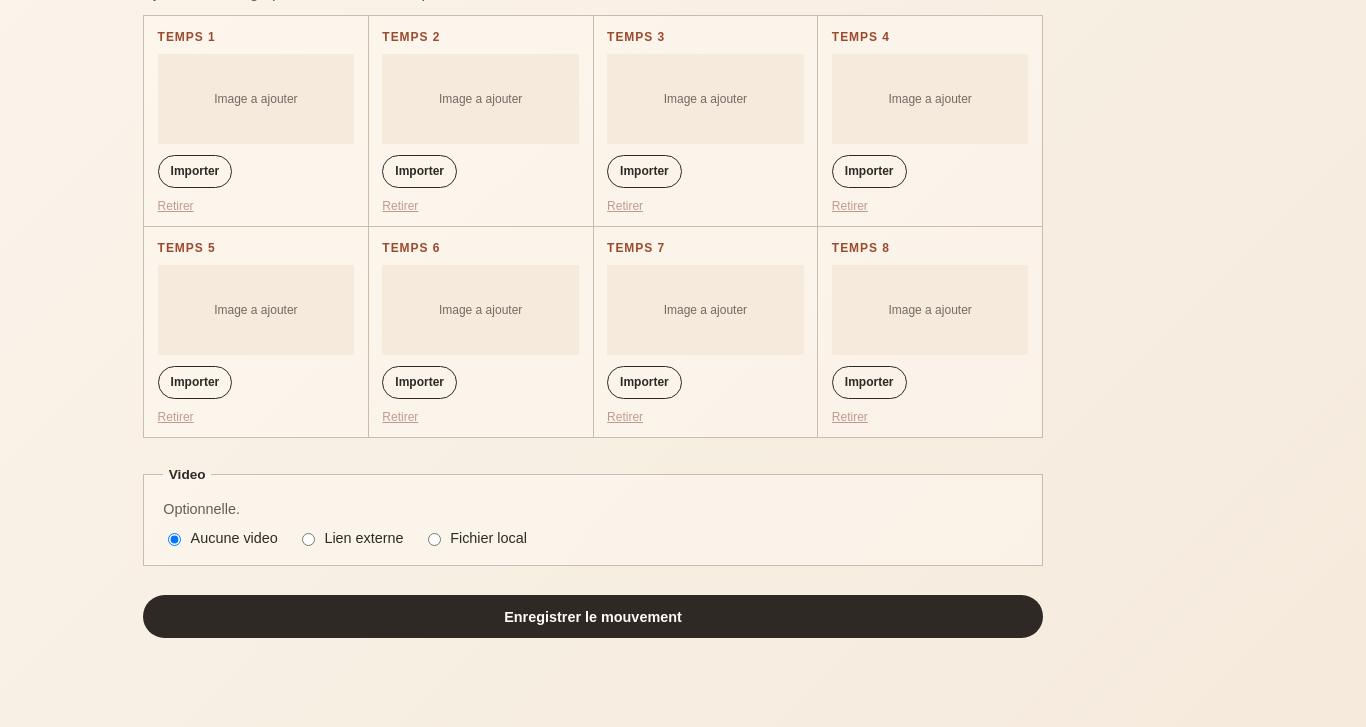
it: MovementForm › shows field errors without saving an incomplete movement
(page scrolled)
Click the button "Enregistrer le mouvement": (593, 617) [143,595,1043,638]
(page scrolled)
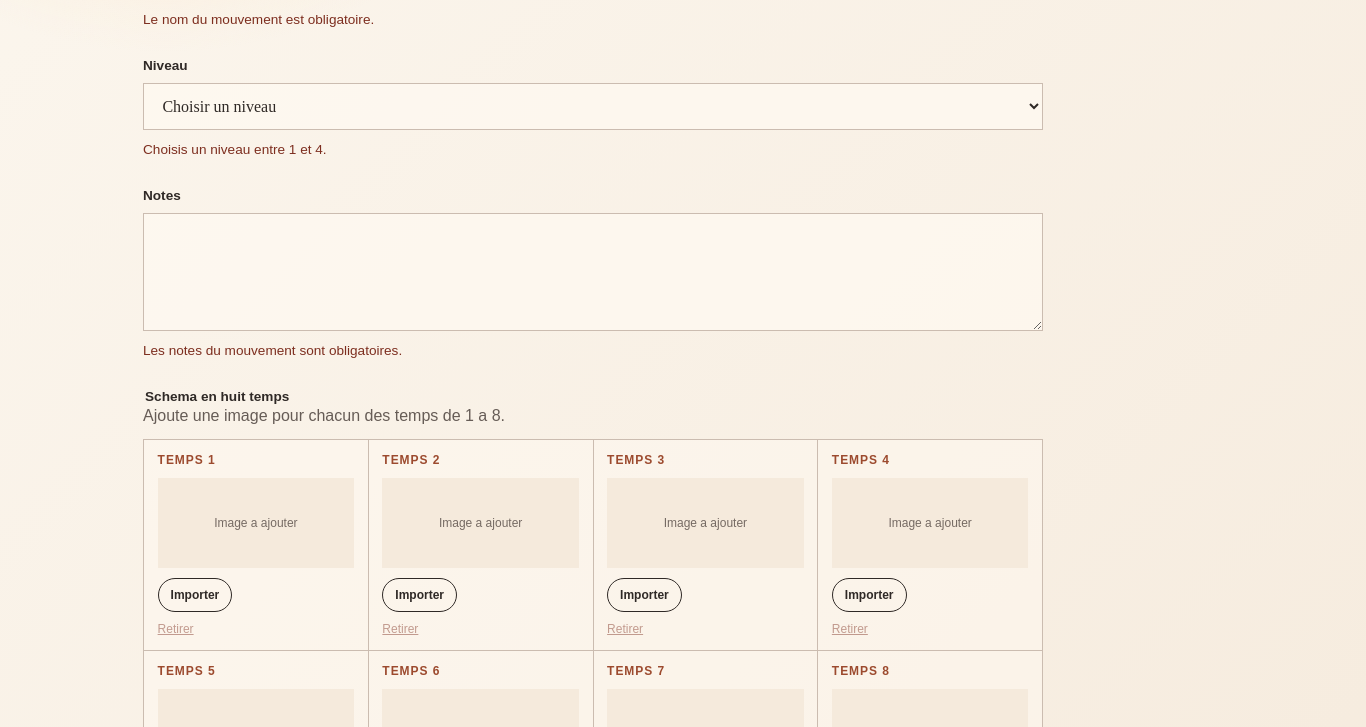
Expected: the text "Le nom du mouvement est obligatoire." is shown, [143,12,374,27]
Expected: the text "Choisis un niveau entre 1 et 4." is shown, [143,142,327,157]
Expected: the text "Les notes du mouvement sont obligatoires." is shown, [143,343,402,358]
